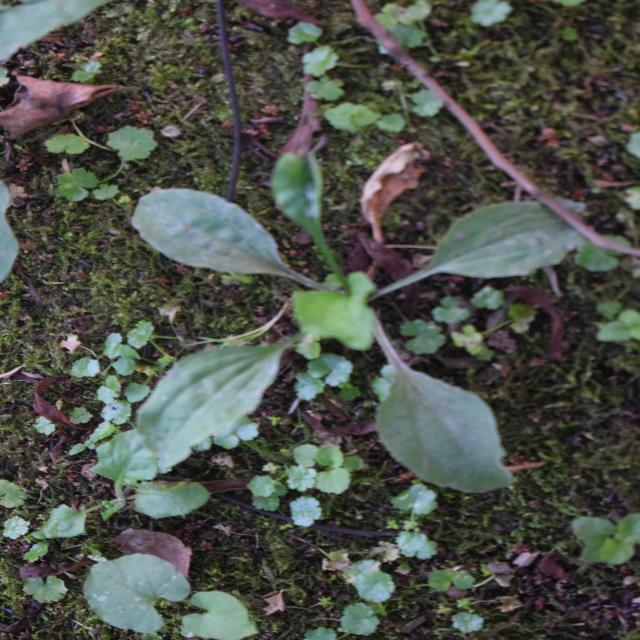plantain: (147, 117, 457, 539)
